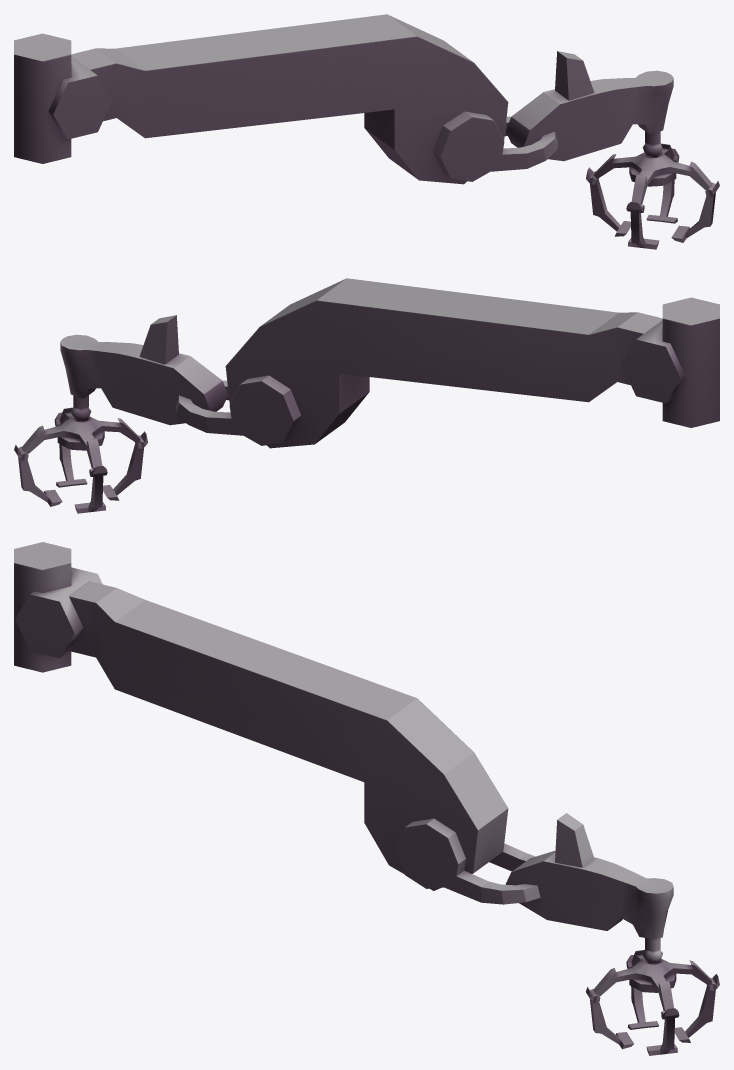
Rendered from S2_MachHand.FBX.
The picture shows the model from 3 angles, top to bottom: view 1: azimuth 30°, elevation 25°; view 2: azimuth 150°, elevation 25°; view 3: azimuth 330°, elevation 25°; orthographic projection.
Parts seen in each view (by area): view 1: S2_MachHand; view 2: S2_MachHand; view 3: S2_MachHand.
Boxes of the visible parts, box(x1,y1,x2,y2) form: S2_MachHand: box(14, 14, 719, 249); S2_MachHand: box(14, 278, 719, 513); S2_MachHand: box(14, 542, 719, 1055).
Bounding box in the file's own units: 2676 × 349 × 1250.
